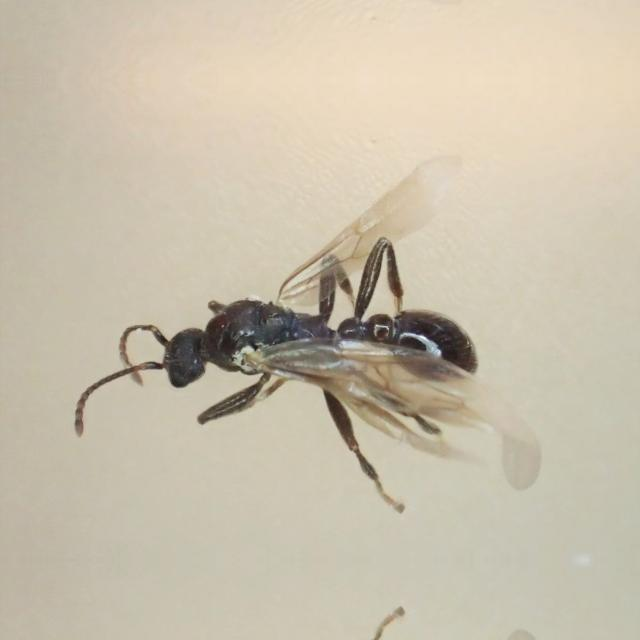Myrmica: (129, 233, 531, 473)
